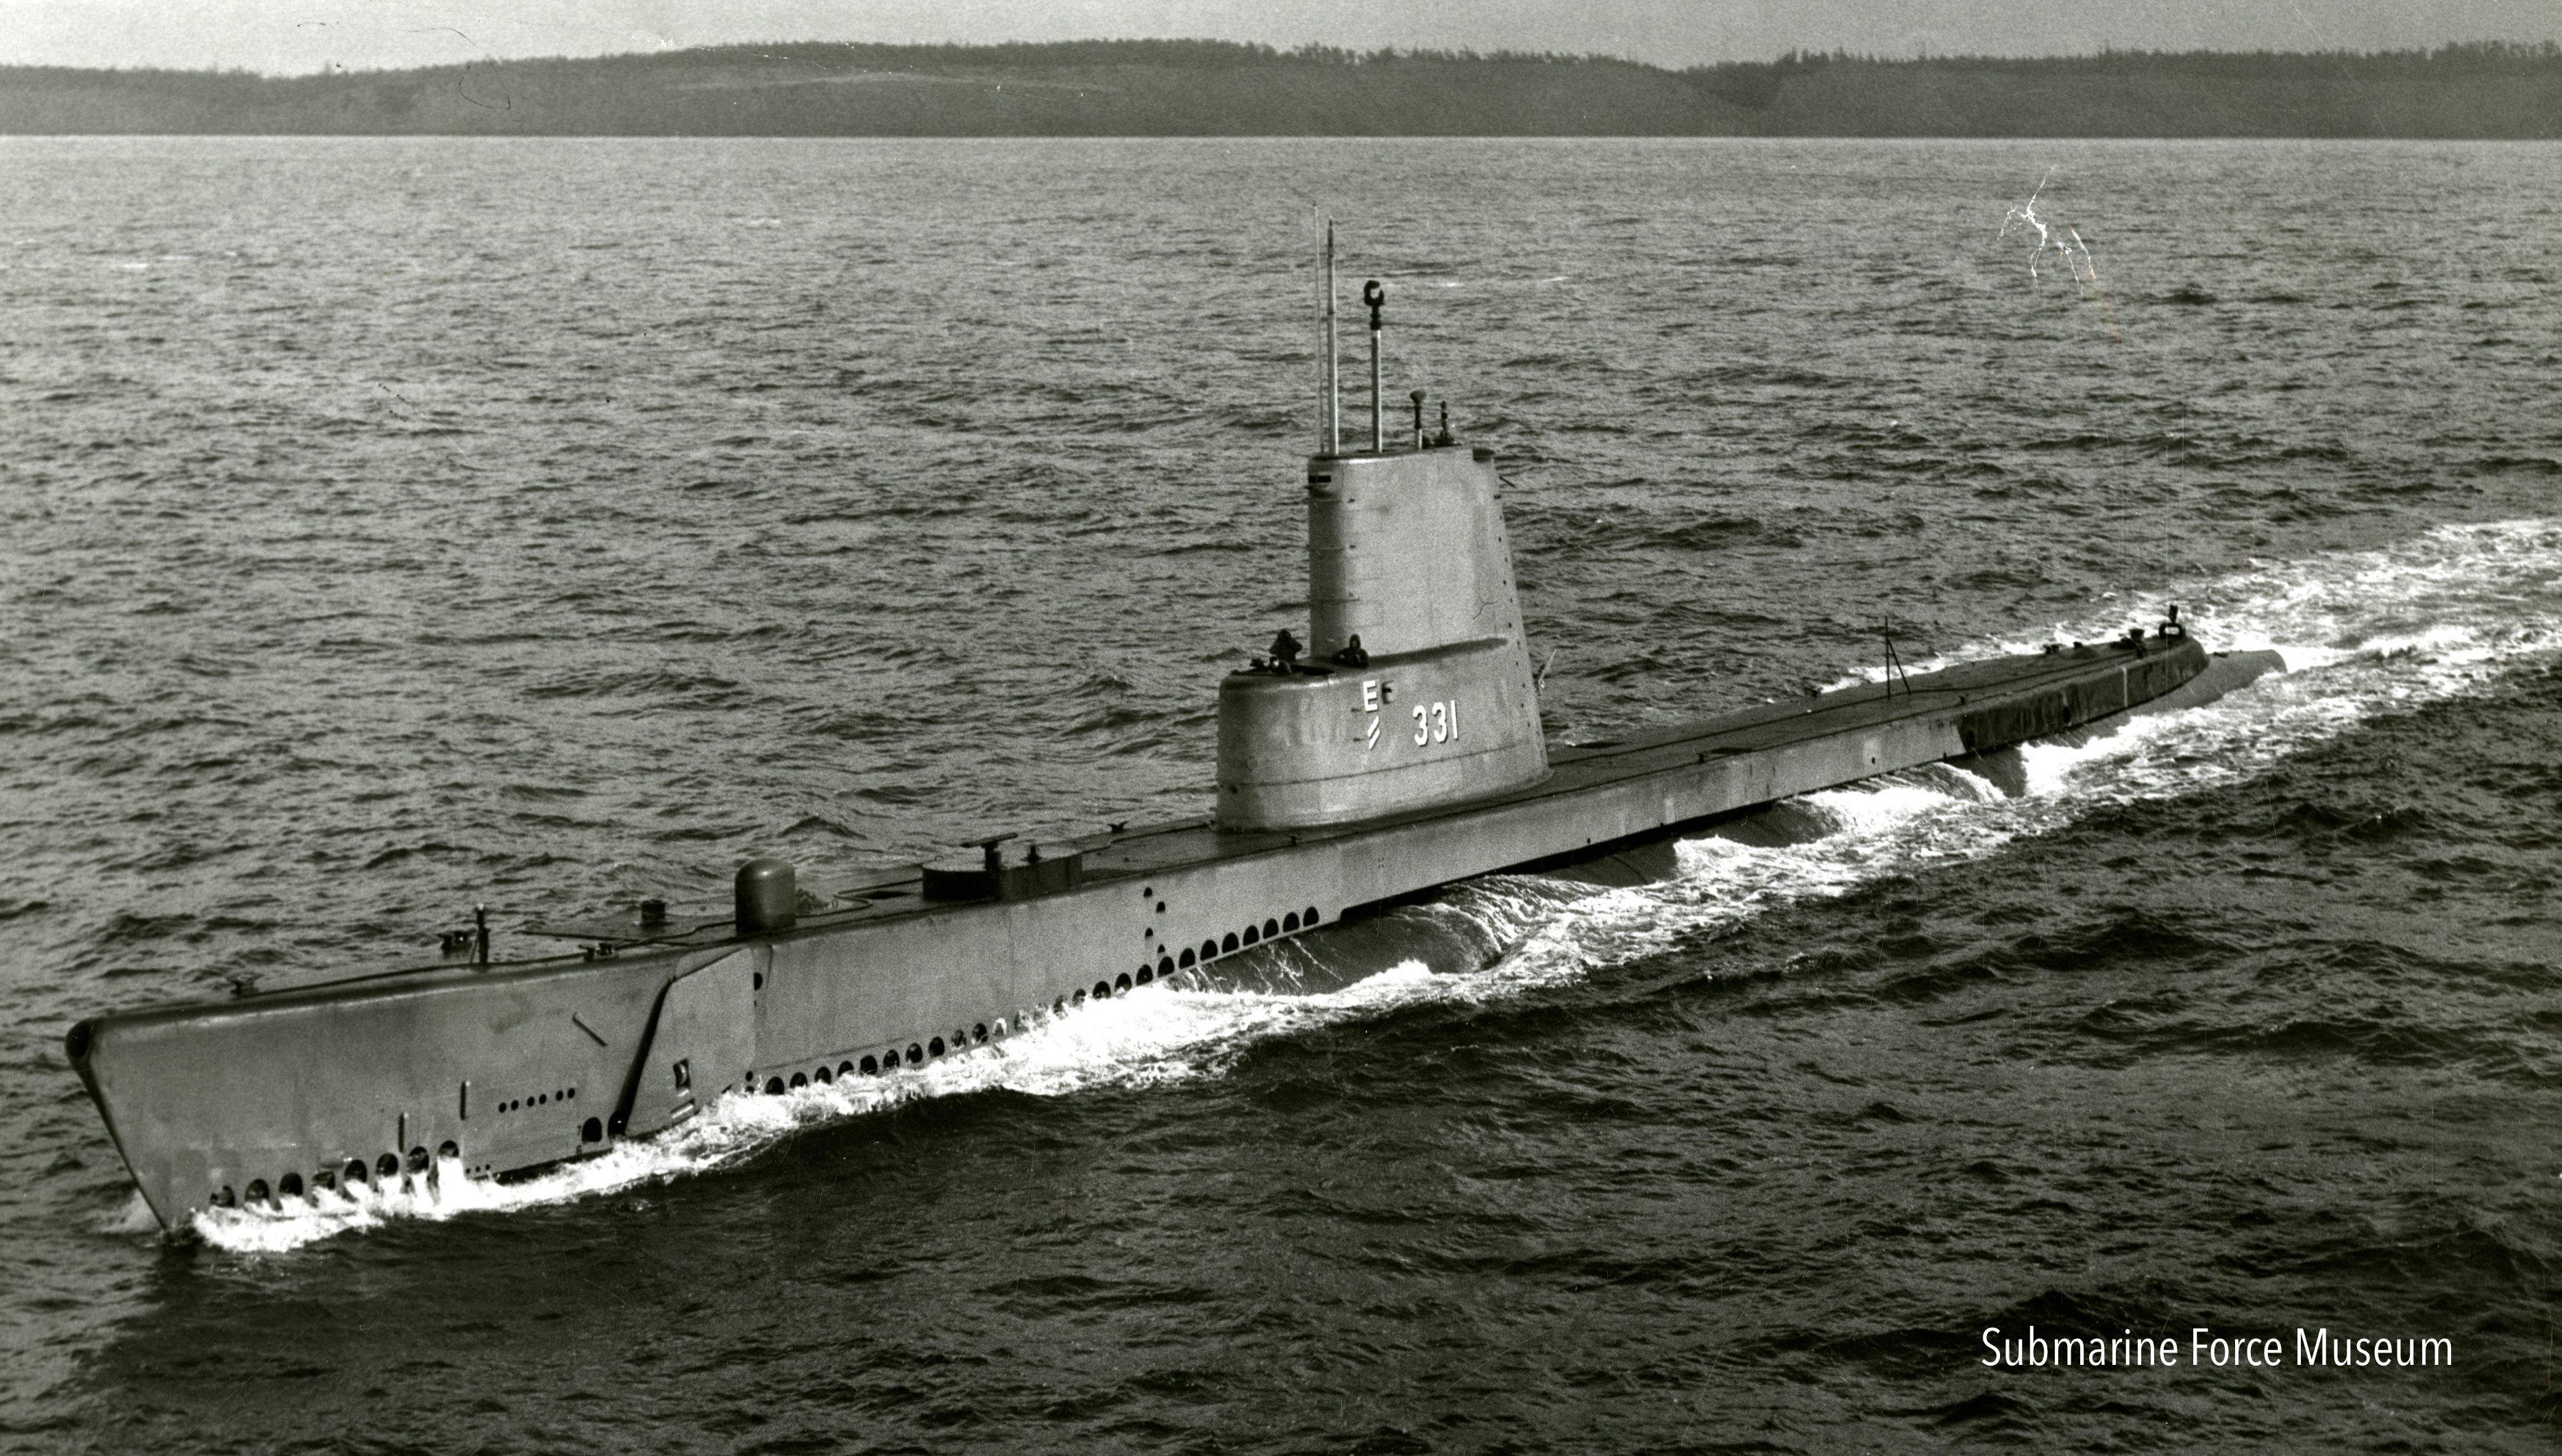Submarine: (21, 141, 2289, 1275)
